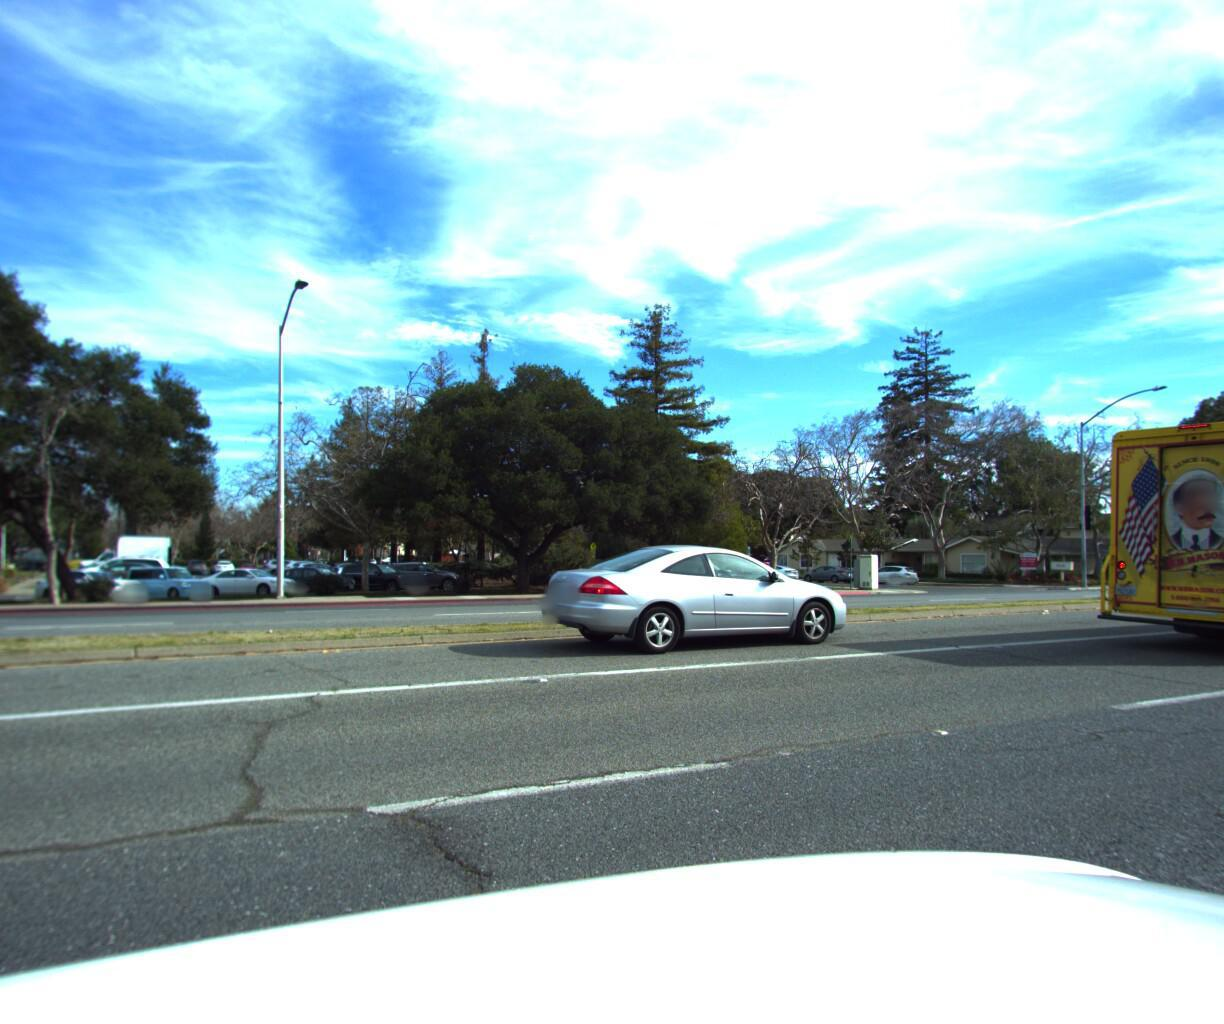car: (524, 530, 848, 656), (856, 558, 920, 580), (798, 558, 857, 579), (745, 557, 800, 577)
truck: (1082, 397, 1224, 662)
